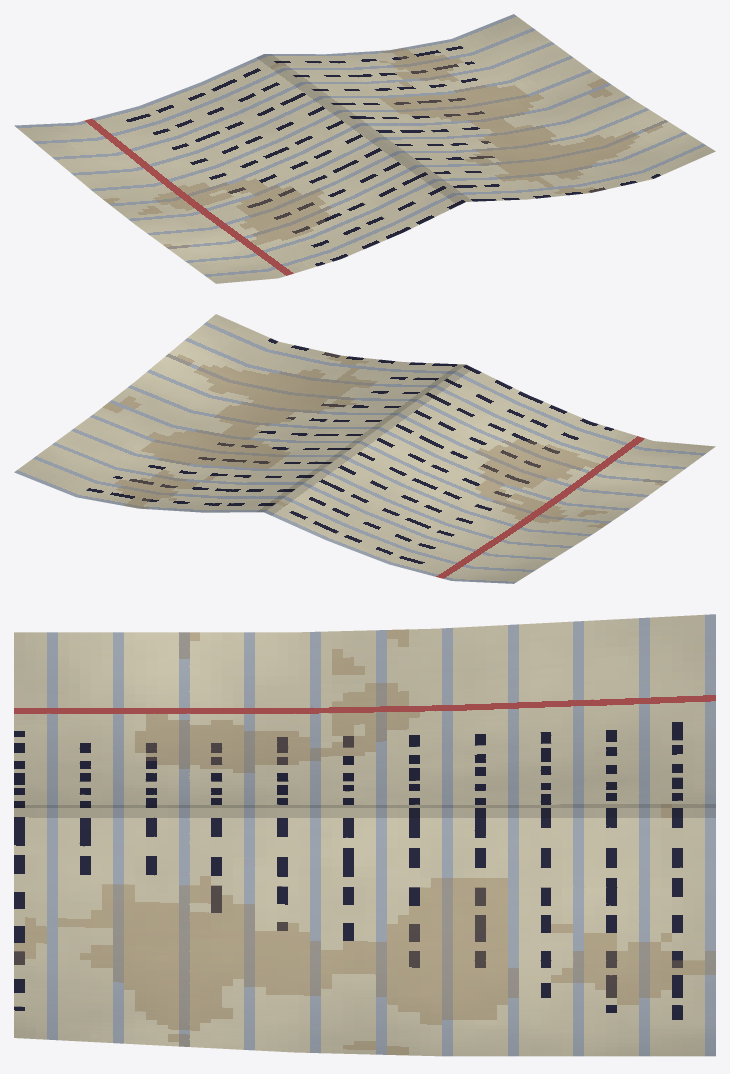
Rendered from item_note.glb.
The picture shows the model from 3 angles, top to bottom: view 1: azimuth 30°, elevation 25°; view 2: azimuth 150°, elevation 25°; view 3: azimuth 270°, elevation 25°; orthographic projection. The views are drawn at different scales.
Parts seen in each view (by area): view 1: note; view 2: note; view 3: note.
Boxes of the visible parts, x1,y1,x2,y2 form: note: [14, 14, 715, 283]; note: [14, 314, 715, 583]; note: [14, 614, 715, 1056].
Bounding box in the file's own units: 0.15 × 0.0094 × 0.105.
2 materials, 2 textured.
